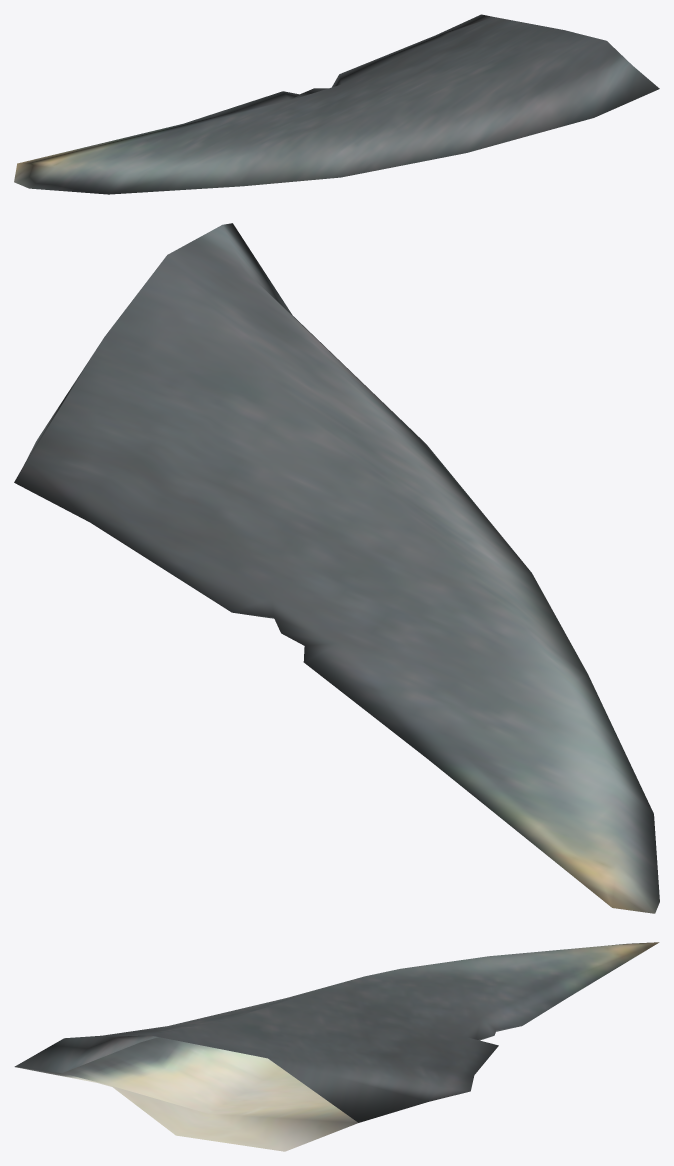
Rendered from AletaDer.obj.
3 views of the same model, one above another, from view 1: azimuth 30°, elevation 25°; view 2: azimuth 150°, elevation 25°; view 3: azimuth 270°, elevation 25° (orthographic). The views are drawn at different scales.
Visible parts, largest first — view 1: AletaDer; view 2: AletaDer; view 3: AletaDer.
Boxes of the visible parts, x1,y1,x2,y2 form: AletaDer: [14, 14, 659, 194]; AletaDer: [14, 223, 659, 913]; AletaDer: [14, 942, 659, 1151].
Size of the model in its own units: 10.97 by 3.51 by 8.92.
1 material, 1 textured.
